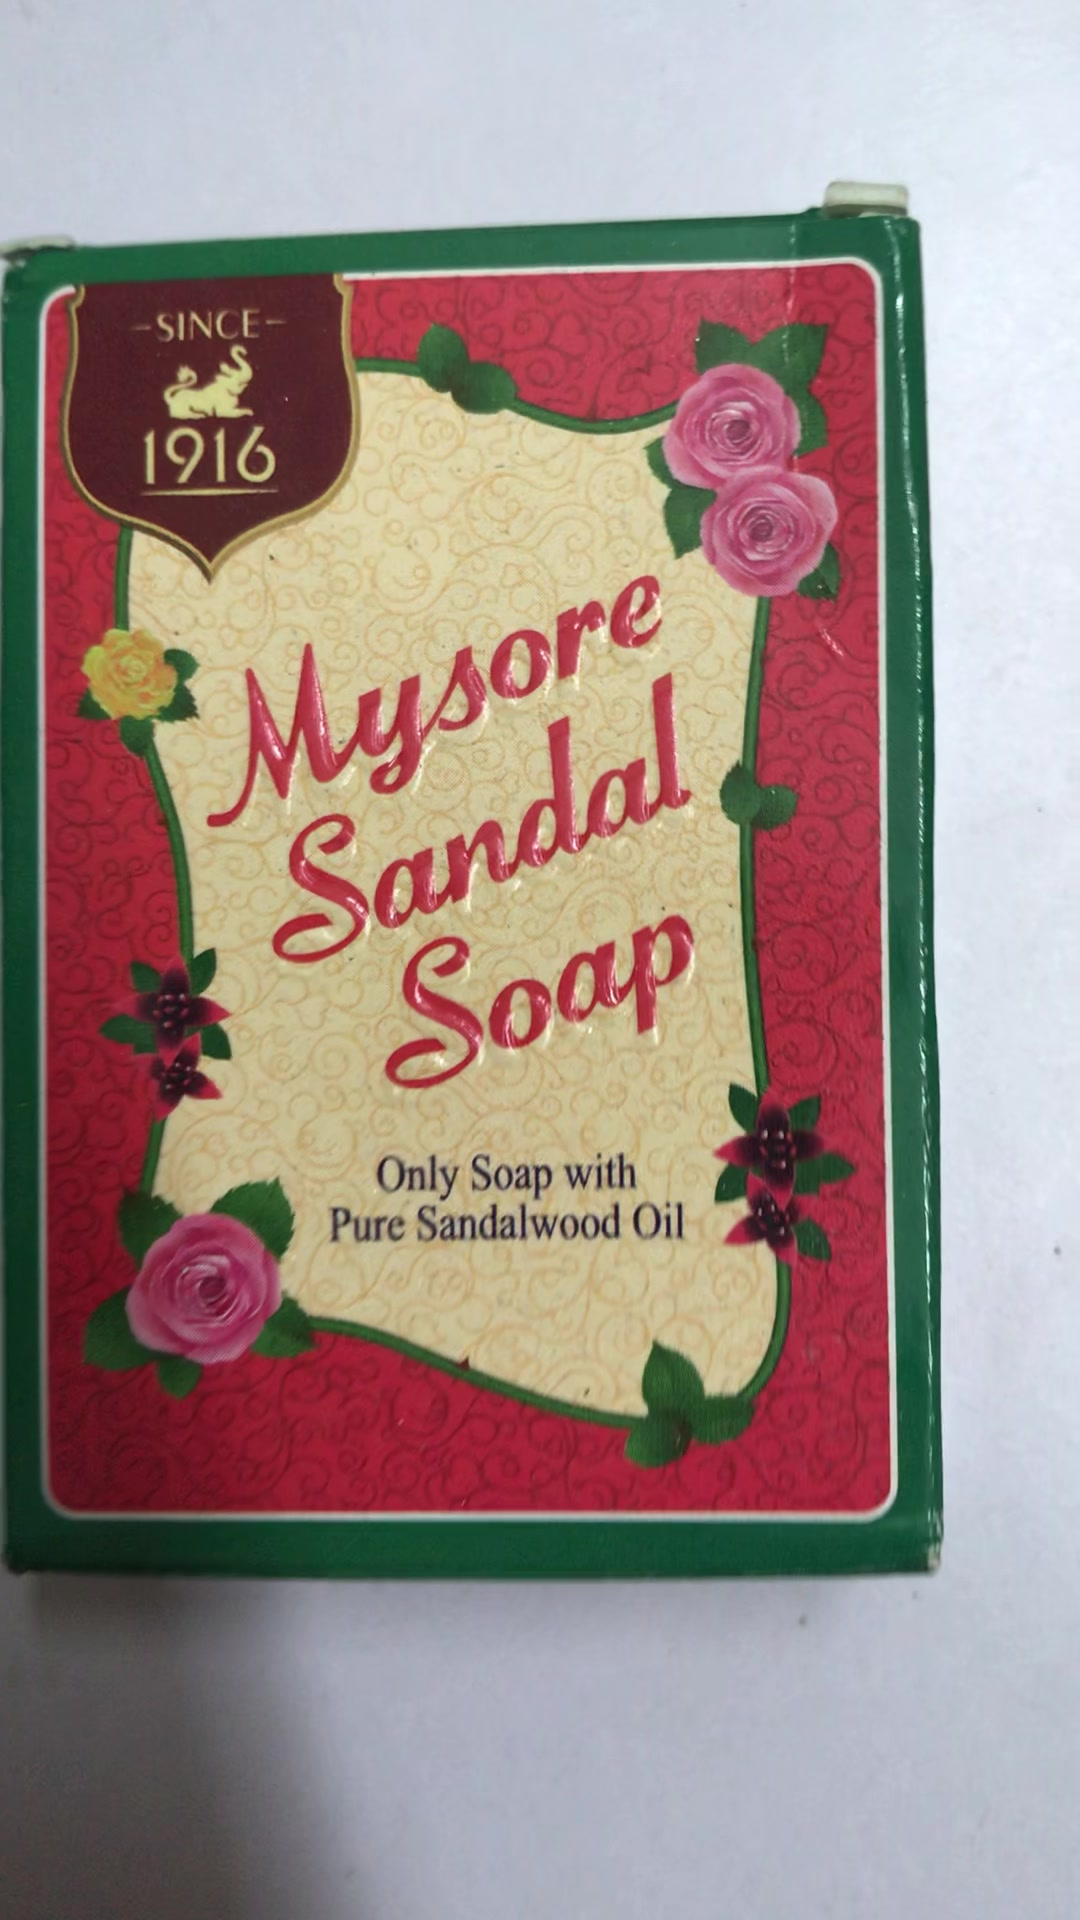mysore sandal soap: (1, 233, 949, 1581)
